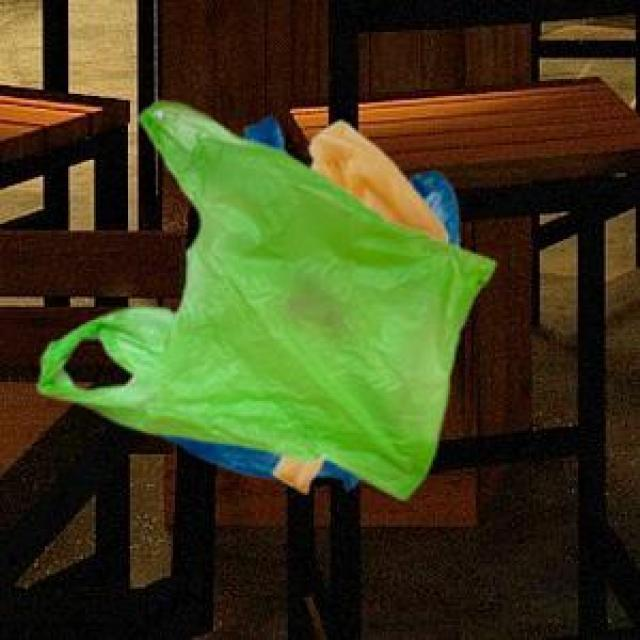waste: (41, 105, 494, 498)
